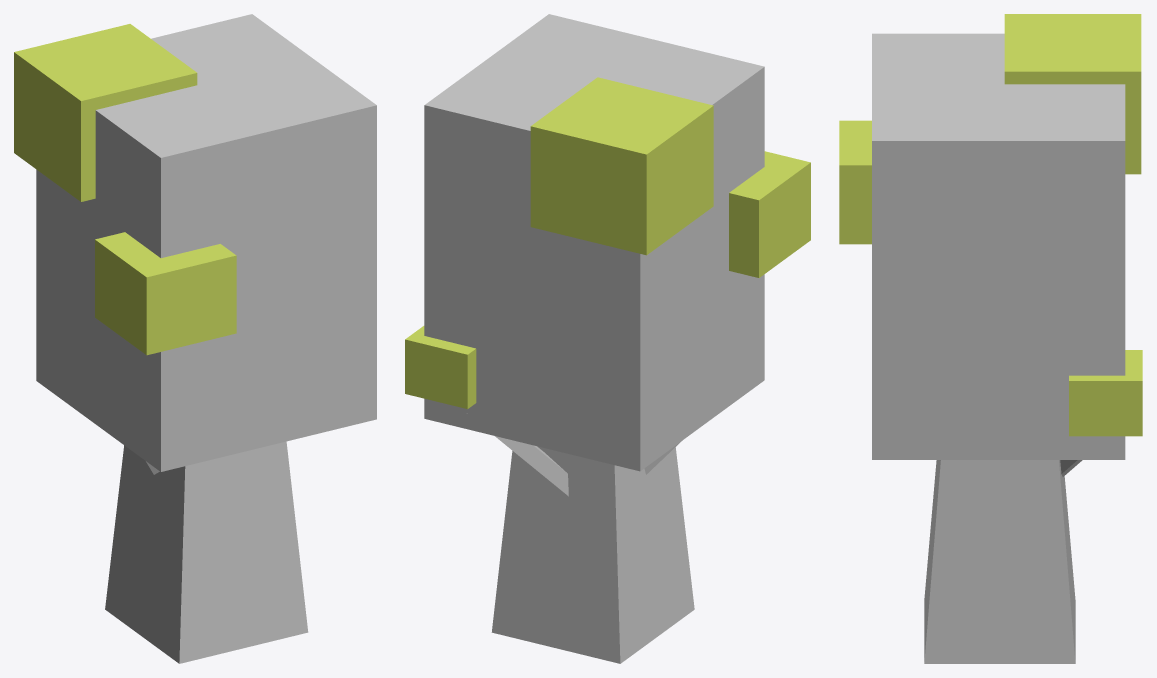
Rendered from Copac-8.fbx.
3 views of the same model, side by side, from view 1: azimuth 30°, elevation 25°; view 2: azimuth 150°, elevation 25°; view 3: azimuth 270°, elevation 25° (orthographic).
Parts seen in each view (by area): view 1: Cube.005; view 2: Cube.005; view 3: Cube.005.
Part boxes in pixels (x1,y1,x2,y2): Cube.005: (14, 14, 376, 663); Cube.005: (405, 14, 810, 663); Cube.005: (839, 14, 1142, 663).
Size of the model in its own units: 1.4 by 2.84 by 1.4.
